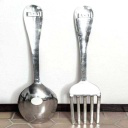fork: (65, 7, 111, 128)
